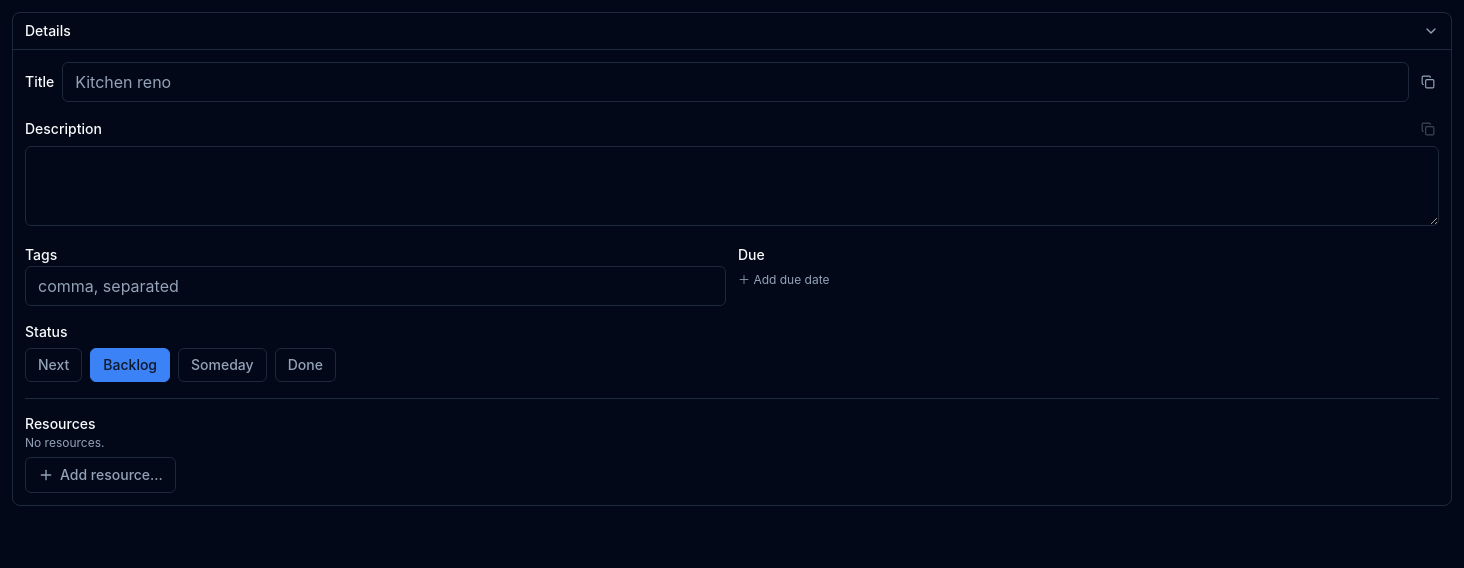
ProjectDetailsPanel › autosaves a text field on blur, trimming the title
Replace the text in the field labelled "Title" with "  Garden  " at (736, 82), box [62,62,1409,102]
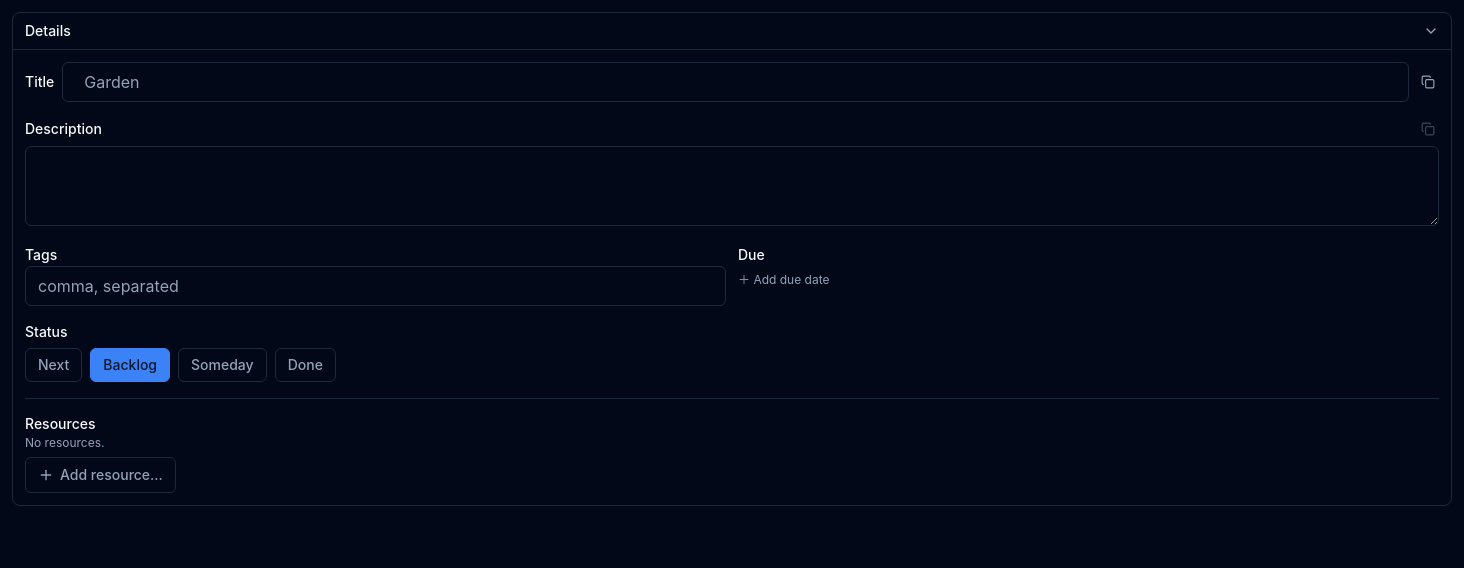
Leave the field labelled "Title", box [62,62,1409,102]
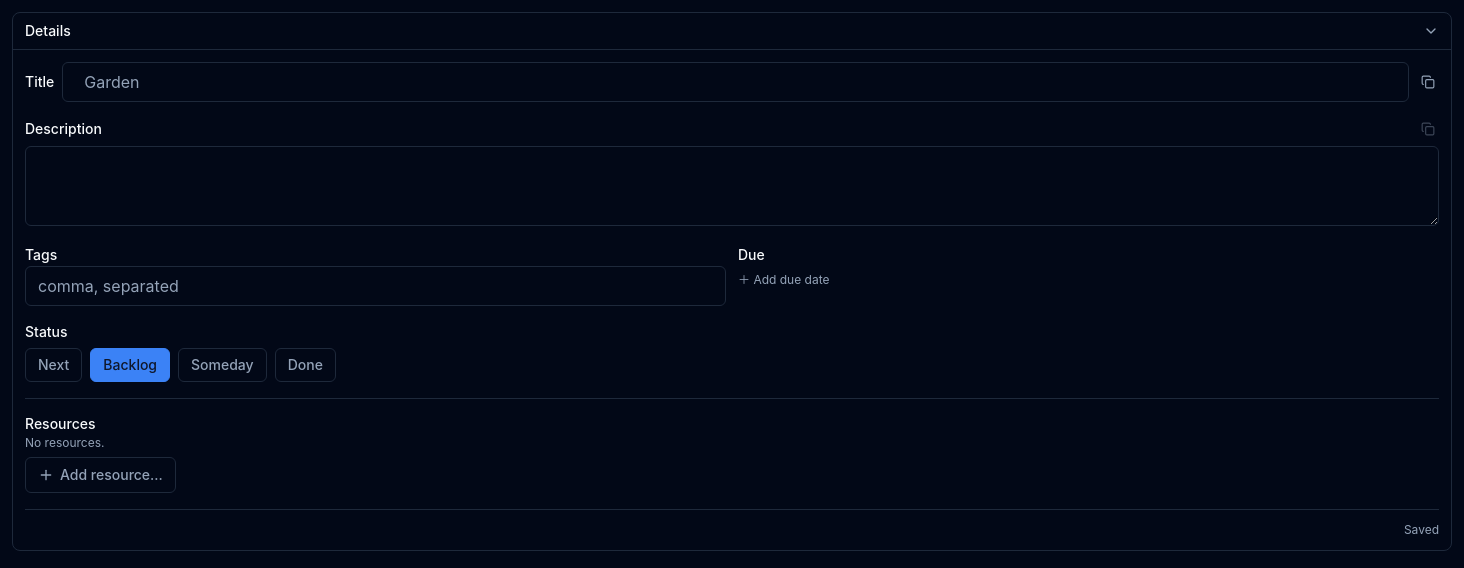
Now the text "Saved" is shown, box [1404,522,1439,538]
